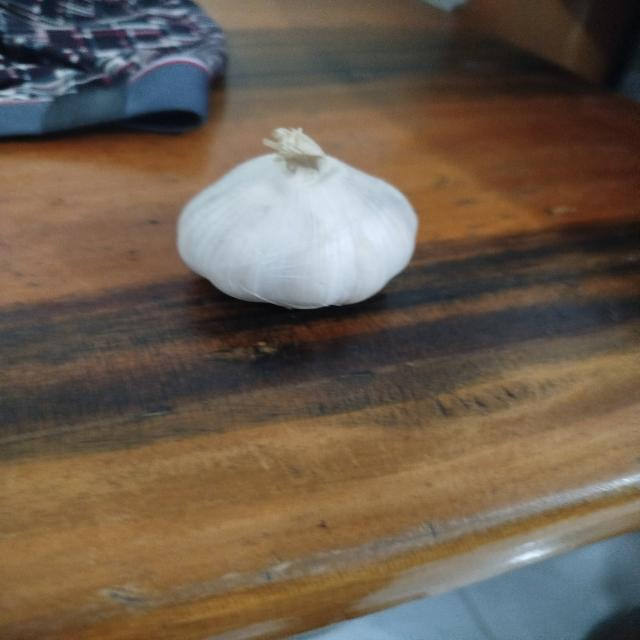garlic: (176, 126, 419, 310)
